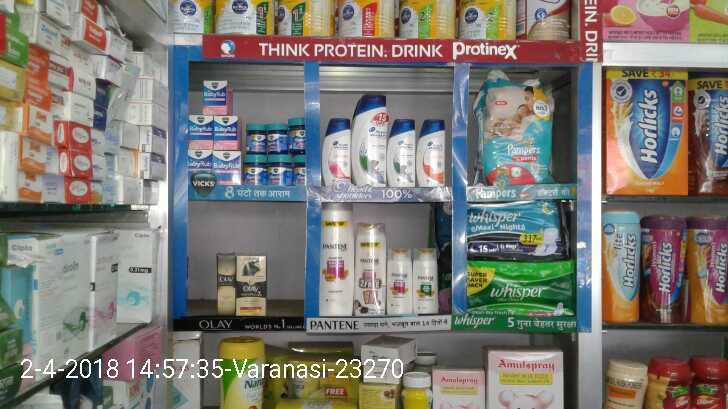vicks: (191, 74, 308, 184)
